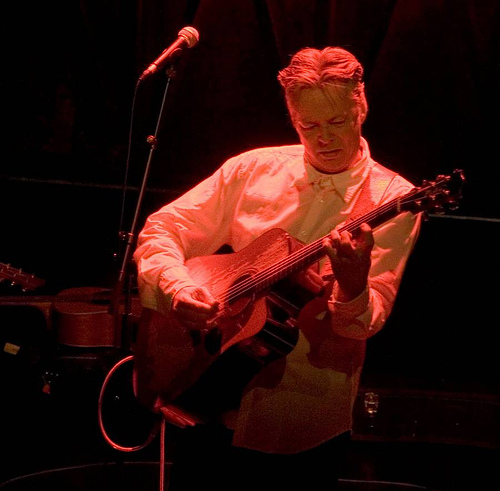guitar: (135, 162, 473, 412)
